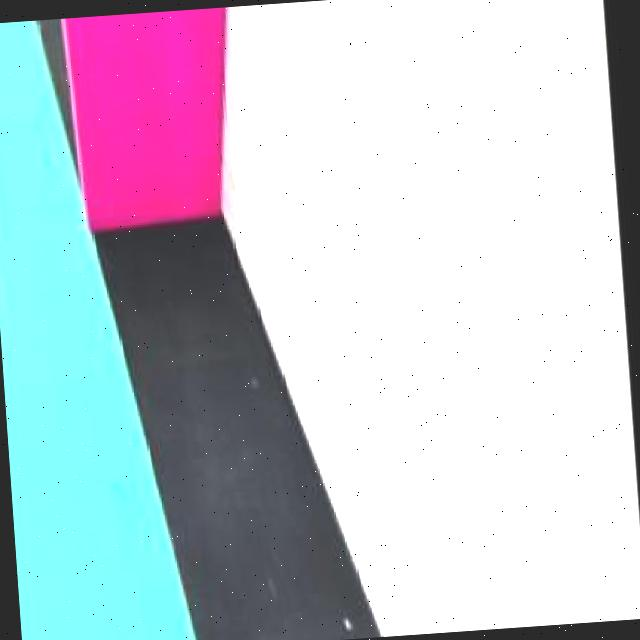xparking: (74, 5, 248, 218)
